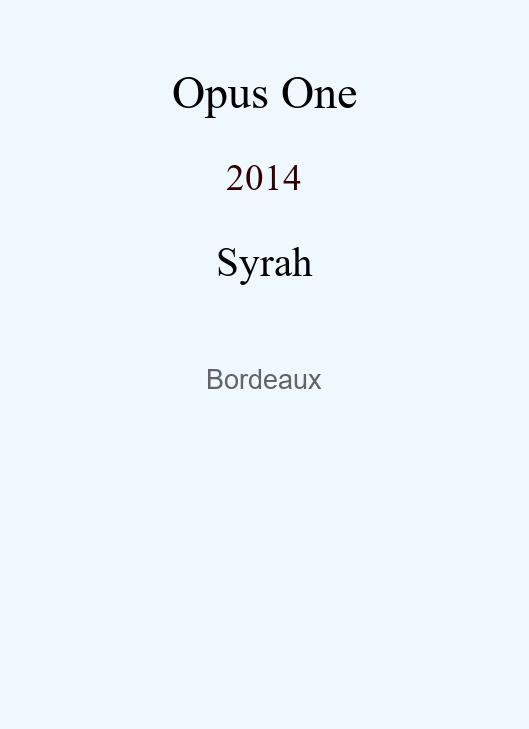brand: (172, 67, 357, 108)
region: (206, 364, 322, 384)
variety: (216, 239, 313, 277)
vintage: (226, 157, 302, 182)
